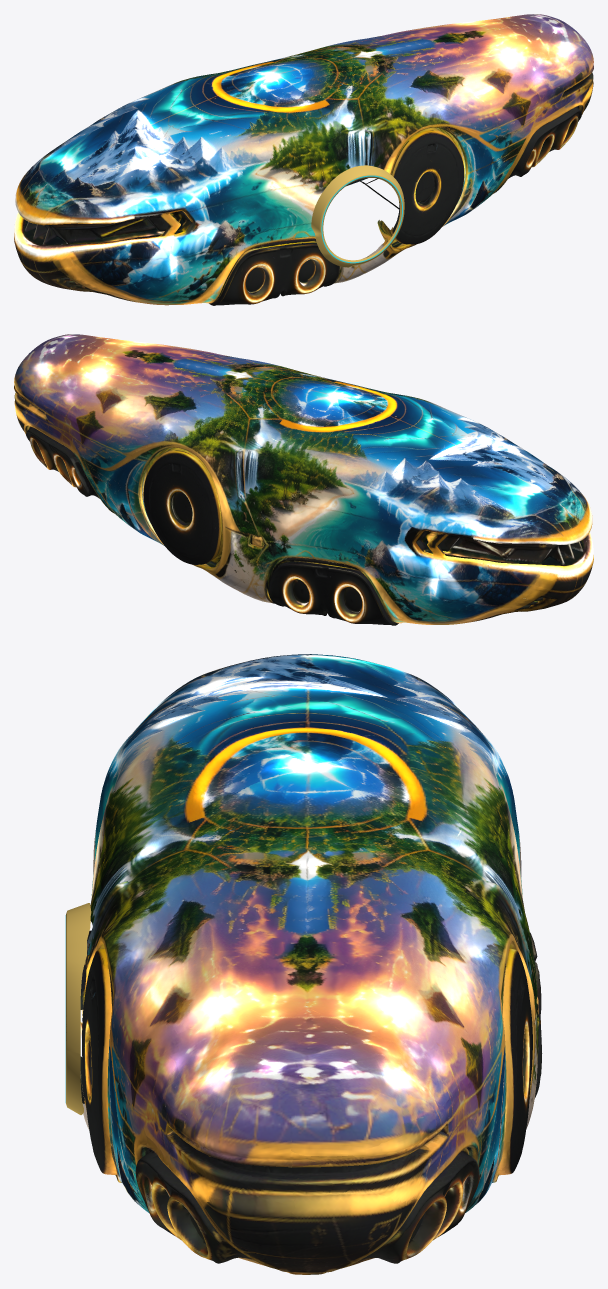
File: starpod_worlds_v6.glb
3 views of the same model, one above another, from view 1: azimuth 30°, elevation 25°; view 2: azimuth 150°, elevation 25°; view 3: azimuth 270°, elevation 25° (orthographic). The views are drawn at different scales.
Size of the model in its own units: 1.9 by 0.581 by 0.7049.
Materials: 2 (2 with a texture image).
